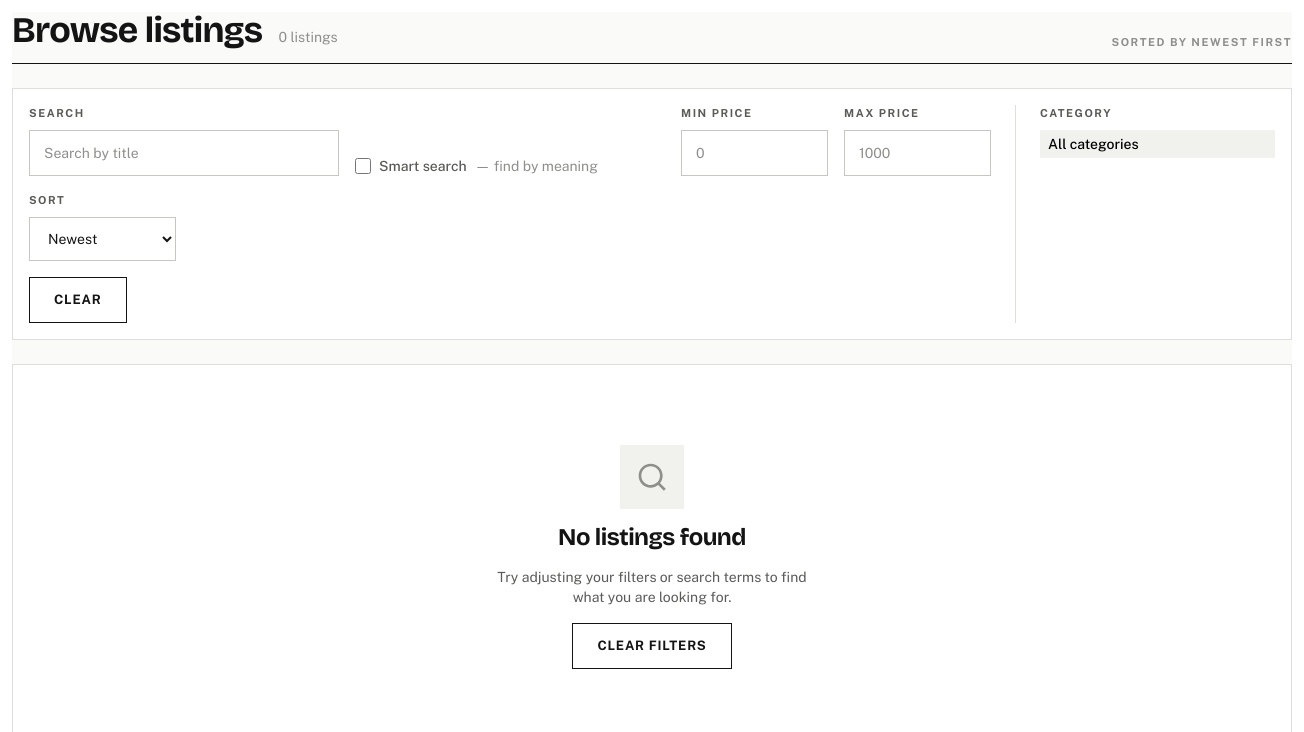
Test: C2C-AI-8 — AC6: the empty state › AC6: smart search with no results says so in its own words
Click the checkbox labelled "Smart search — find by meaning": (363, 166) left=355, top=158, right=371, bottom=174
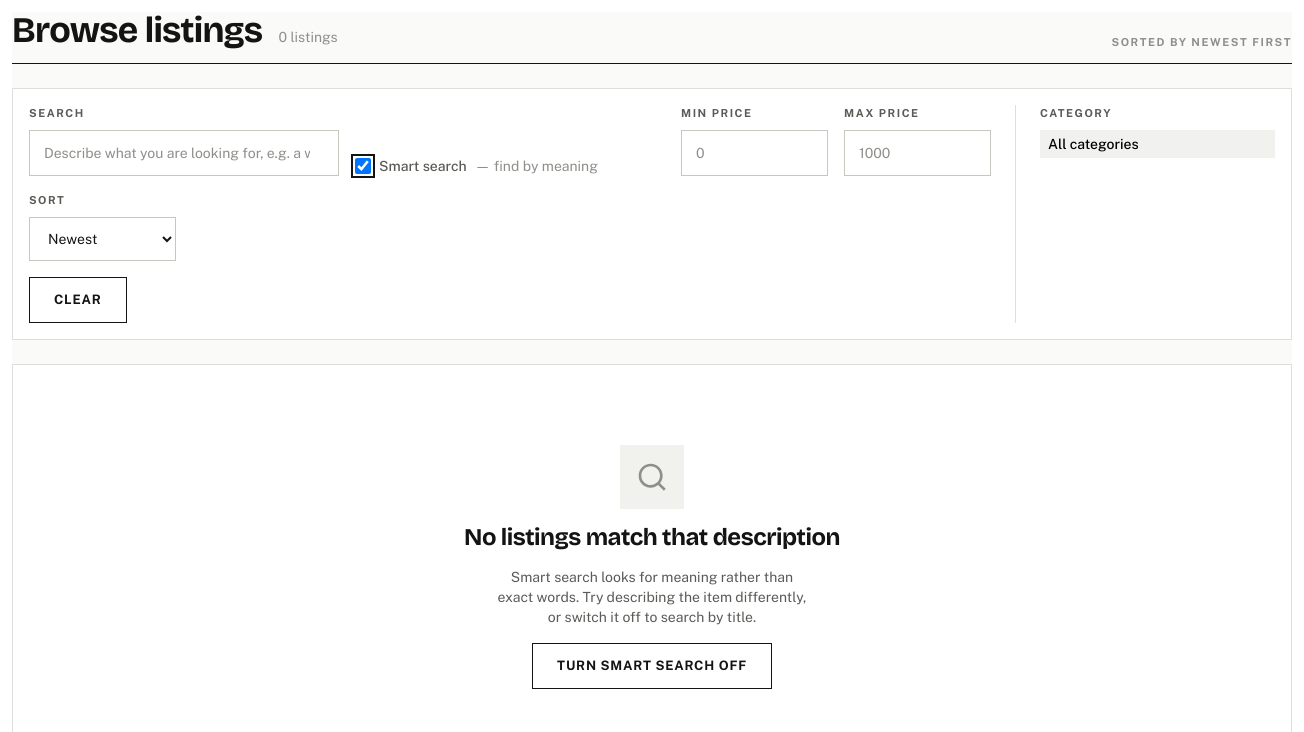
Check: the heading "No listings match that description" is shown, box left=464, top=525, right=840, bottom=551
